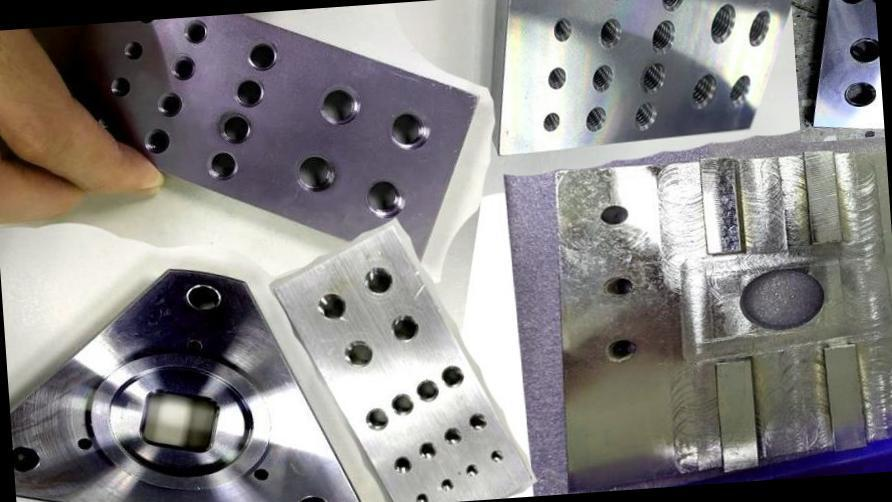hole: (285, 144, 350, 198), (380, 103, 441, 158), (358, 174, 417, 222), (314, 81, 364, 129), (600, 325, 646, 373), (687, 66, 729, 112), (199, 146, 245, 186), (705, 0, 741, 48), (839, 74, 883, 112), (240, 37, 285, 74), (226, 74, 270, 111), (181, 280, 228, 314), (215, 110, 259, 146), (645, 17, 685, 56), (358, 260, 396, 299), (635, 59, 674, 96), (150, 86, 190, 122), (340, 333, 376, 372), (599, 269, 638, 305), (629, 98, 668, 134), (593, 198, 633, 233), (12, 436, 46, 477), (388, 308, 422, 349), (540, 58, 576, 96), (100, 69, 141, 102), (743, 8, 776, 48), (138, 124, 178, 157), (578, 100, 616, 134), (595, 13, 628, 51), (844, 32, 880, 66), (178, 16, 218, 46), (166, 50, 202, 83), (725, 74, 755, 113), (316, 290, 349, 324), (534, 105, 567, 139), (588, 60, 618, 96), (412, 375, 442, 407), (360, 405, 390, 436), (550, 13, 578, 46), (440, 360, 465, 392), (390, 390, 416, 420), (388, 454, 416, 481), (119, 36, 146, 63), (460, 456, 483, 482), (441, 424, 464, 450), (293, 488, 334, 502), (467, 409, 489, 435), (658, 0, 693, 14), (416, 442, 438, 464), (437, 476, 458, 496), (833, 0, 870, 11), (413, 487, 433, 502), (490, 447, 506, 465), (134, 19, 157, 30), (603, 0, 637, 4), (867, 0, 876, 10)
